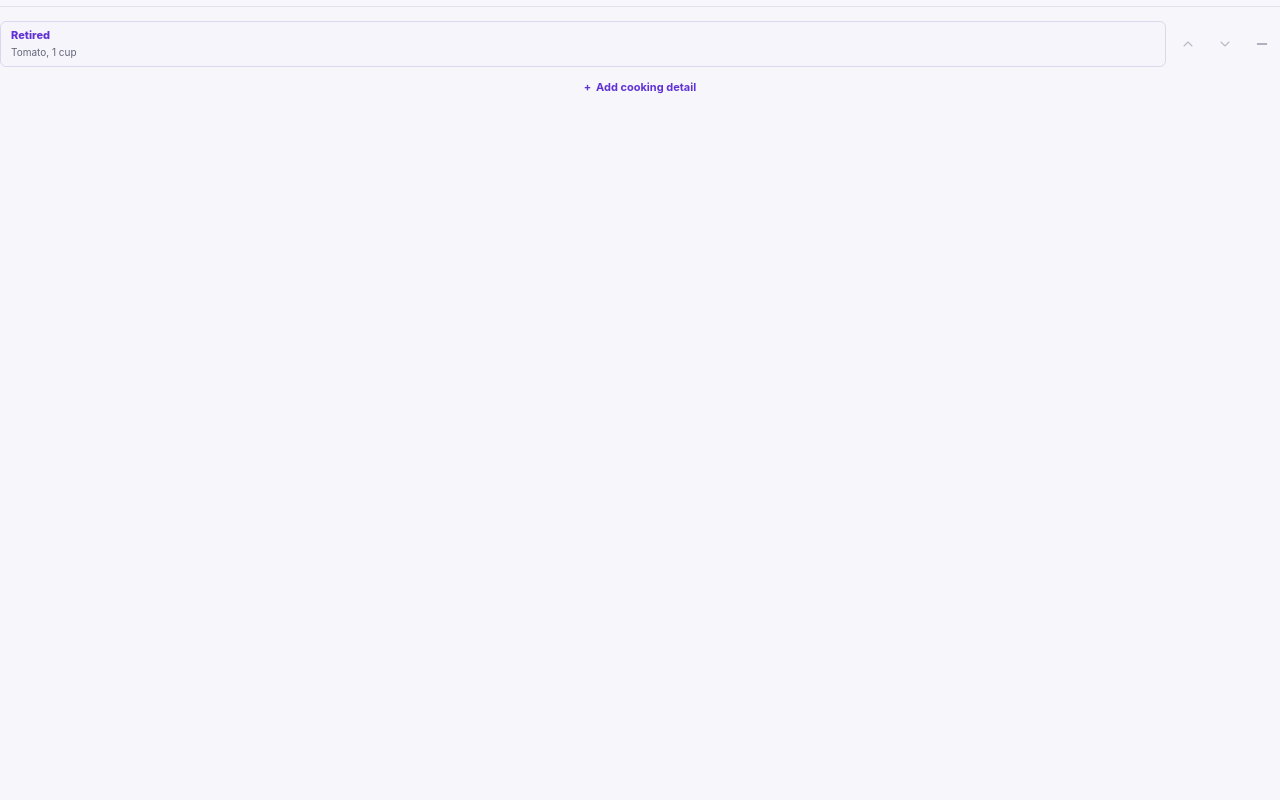
Test case: StructuredActionEditor › renders inherited inactive types and removed inputs without silently dropping either
Click the button with aria-label "Edit cooking detail 1 for Step 1" at (31,35), box [0,21,1166,67]
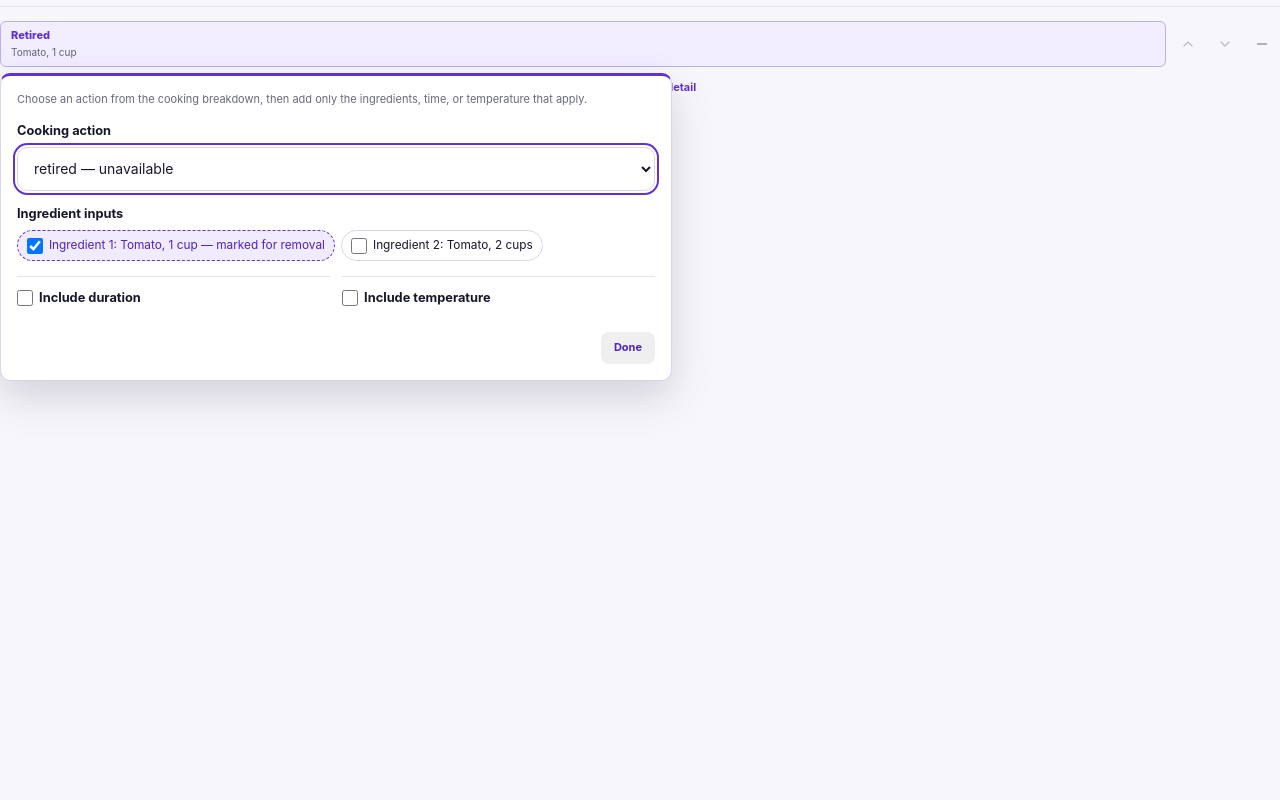
Expected: the dropdown labelled "Cooking action" shows "retired — unavailable", [17,147,655,191]
Expected: the checkbox labelled "Ingredient 1: Tomato, 1 cup — marked for removal" is checked
Expected: the checkbox labelled "Ingredient 1: Tomato, 1 cup — marked for removal" is enabled
Click the checkbox labelled "Ingredient 1: Tomato, 1 cup — marked for removal" at (35,246), box [27,238,43,254]
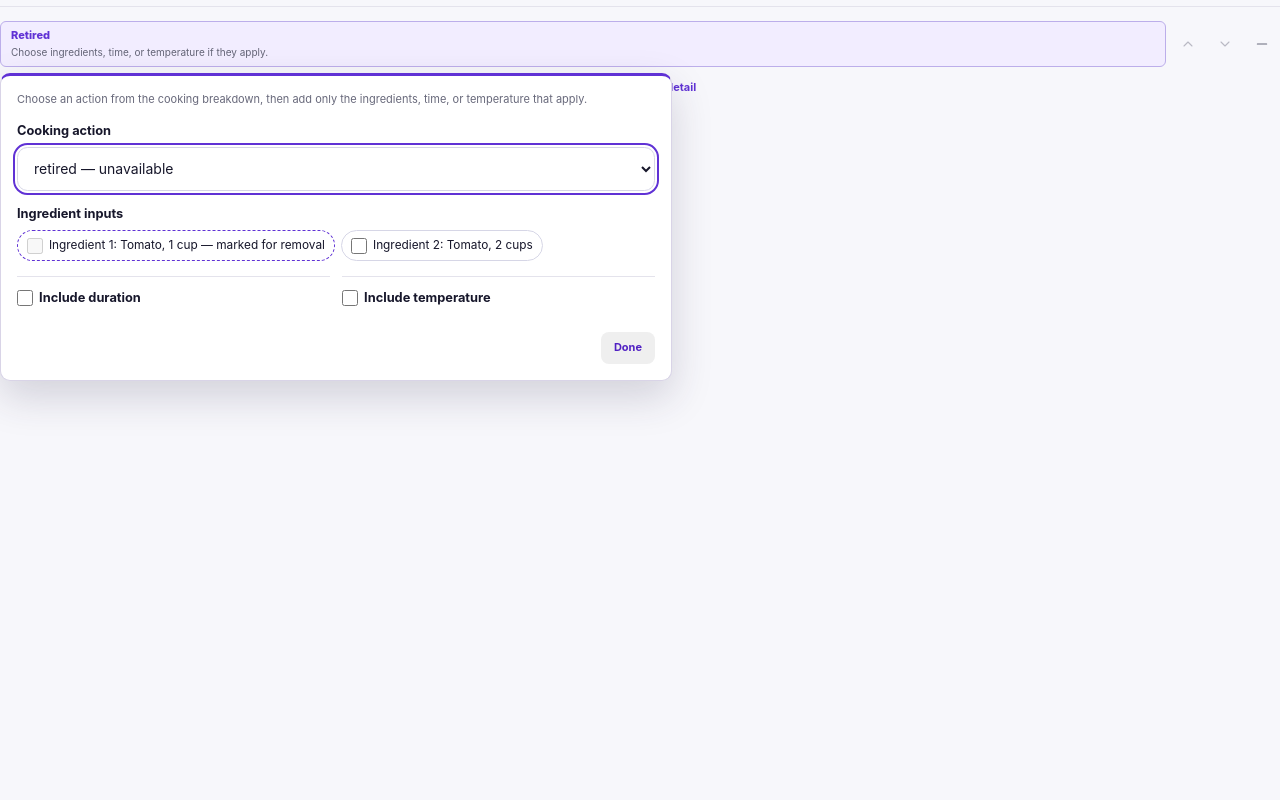
Expected: the checkbox labelled "Ingredient 1: Tomato, 1 cup — marked for removal" is not checked, [27,238,43,254]
Expected: the checkbox labelled "Ingredient 1: Tomato, 1 cup — marked for removal" is disabled, [27,238,43,254]
